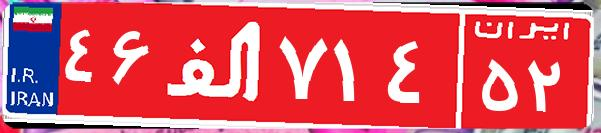1: (330, 28, 385, 110)
2: (525, 38, 570, 115)
4: (385, 28, 445, 110), (57, 26, 110, 107)
5: (475, 38, 525, 113)
6: (110, 28, 158, 105)
7: (273, 28, 330, 110)
الف: (158, 15, 273, 115)
